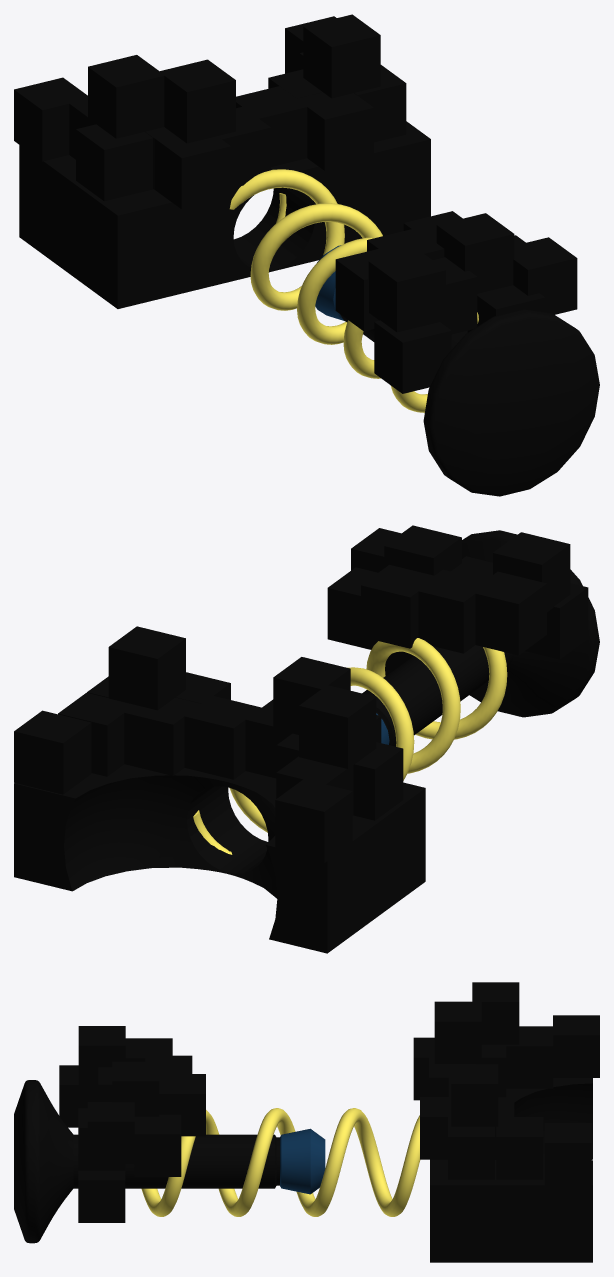
File: tirette.fbx
3 views of the same model, one above another, from view 1: azimuth 30°, elevation 25°; view 2: azimuth 150°, elevation 25°; view 3: azimuth 270°, elevation 25° (orthographic). The views are drawn at different scales.
Parts seen in each view (by area): view 1: Box029, Cylinder003, Helix001, Box042, Box044, Box050, Box043, Box039, Box038, Box040, Box048, Box051 (+13 smaller); view 2: Box029, Cylinder003, Helix001, Box042, Box030, Box037, Box044, Box047, Box033, Box045, Box046, Box032 (+13 smaller); view 3: Box029, Cylinder003, Helix001, Box042, Box030, Box053, Box043, Box031, Box052, Box037, Box036, Box044 (+15 smaller).
Boxes of the visible parts, bbox=[...] form: Box029: bbox=[19, 121, 430, 308]; Cylinder003: bbox=[315, 245, 599, 496]; Helix001: bbox=[229, 169, 478, 412]; Box042: bbox=[303, 14, 380, 98]; Box044: bbox=[88, 55, 164, 138]; Box050: bbox=[368, 249, 445, 332]; Box043: bbox=[159, 59, 235, 143]; Box039: bbox=[154, 133, 230, 209]; Box038: bbox=[76, 124, 153, 201]; Box040: bbox=[297, 92, 373, 170]; Box048: bbox=[436, 213, 514, 293]; Box051: bbox=[374, 320, 451, 393]; Box029: bbox=[14, 764, 425, 953]; Cylinder003: bbox=[362, 530, 599, 746]; Helix001: bbox=[193, 638, 507, 854]; Box042: bbox=[108, 626, 185, 710]; Box030: bbox=[14, 710, 91, 794]; Box037: bbox=[275, 779, 352, 863]; Box044: bbox=[299, 685, 376, 768]; Box047: bbox=[471, 571, 546, 655]; Box033: bbox=[184, 695, 261, 779]; Box045: bbox=[361, 565, 437, 648]; Box046: bbox=[418, 569, 491, 653]; Box032: bbox=[124, 697, 200, 775]; Box029: bbox=[430, 1078, 592, 1262]; Cylinder003: bbox=[14, 1080, 325, 1243]; Helix001: bbox=[141, 1108, 420, 1216]; Box042: bbox=[451, 1064, 498, 1126]; Box030: bbox=[544, 1123, 591, 1185]; Box053: bbox=[87, 1102, 134, 1164]; Box043: bbox=[434, 1001, 481, 1063]; Box031: bbox=[496, 1117, 543, 1179]; Box052: bbox=[134, 1114, 181, 1176]; Box037: bbox=[553, 1015, 599, 1077]; Box036: bbox=[506, 1026, 553, 1088]; Box044: bbox=[472, 982, 519, 1044].
Bounding box in the file's own units: 321 × 235 × 623.
